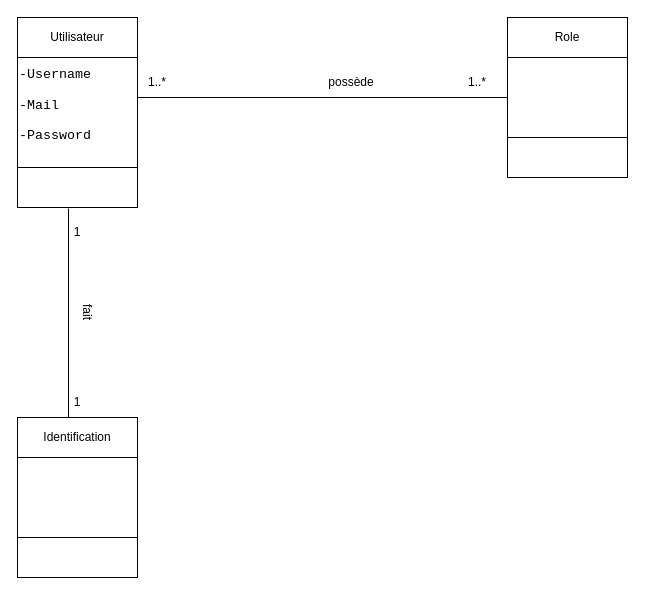
This 645x595 diagram has some shape labels left out. Each missing label, with the box of its shape:
-Mail -Password: (16, 456, 138, 538)
-Nom: (506, 56, 628, 138)
